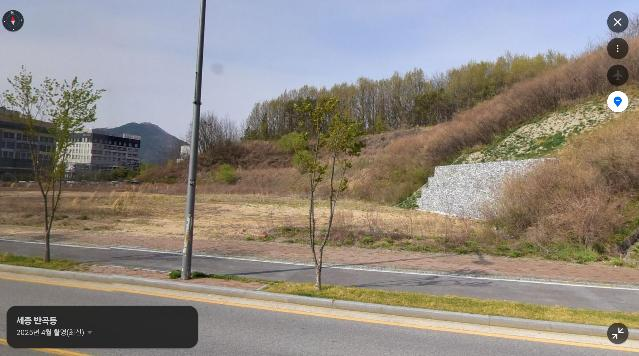other: (1, 65, 107, 263), (292, 94, 367, 292)
